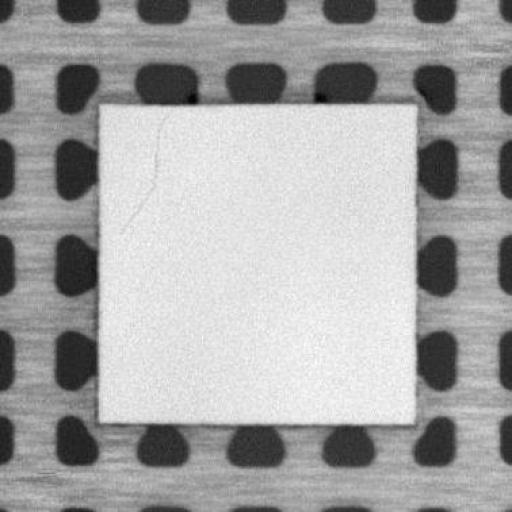DIE_CRACK: (118, 115, 165, 231)
